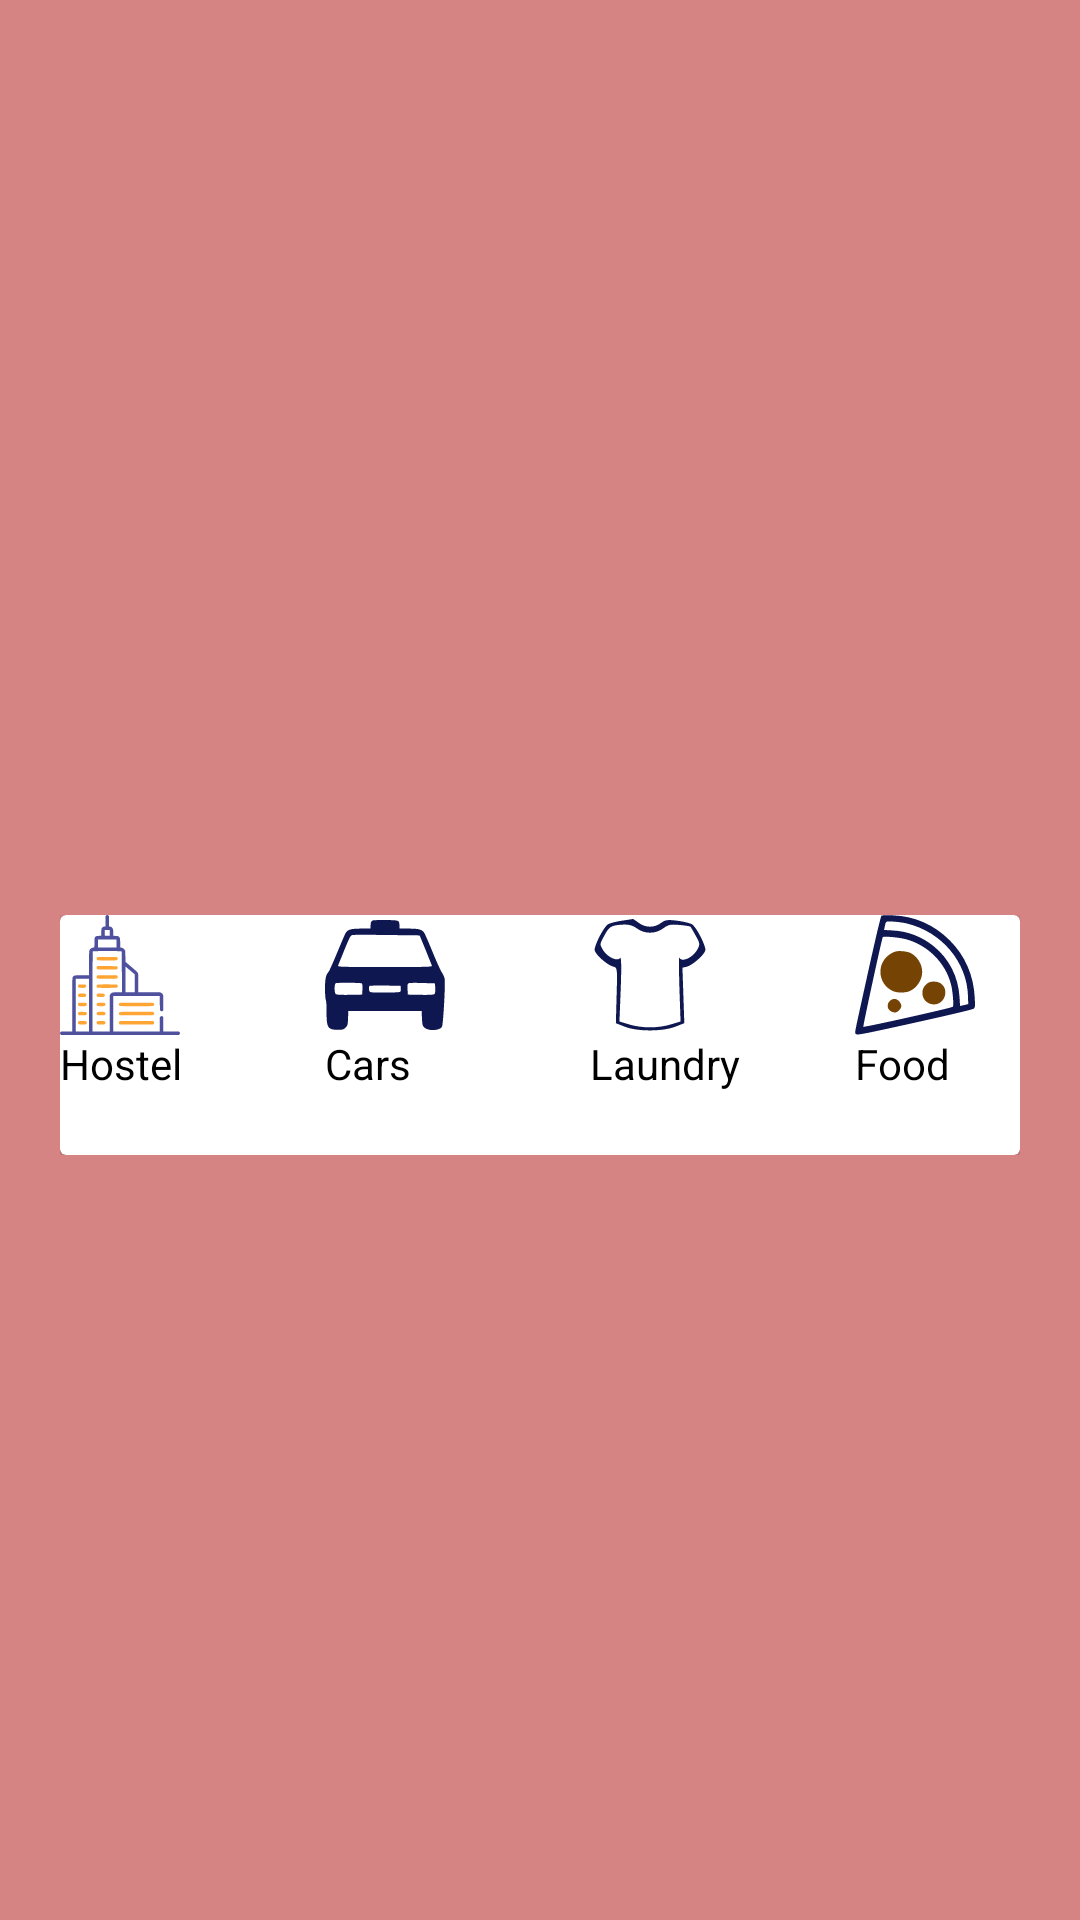

Screen size 1080px×1920px. Icon name, then its center in pixels as (x=x, y=y):
city: (x=120, y=975)
shirt: (x=650, y=975)
